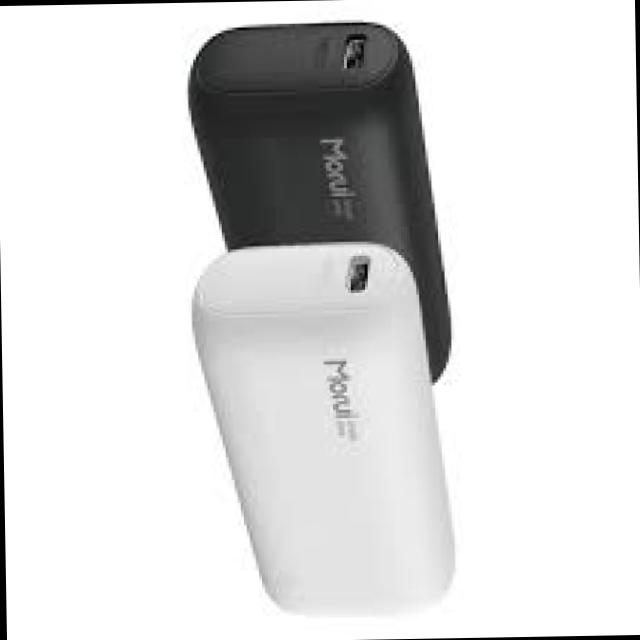portable-charger: (186, 243, 457, 615), (183, 21, 455, 386)
